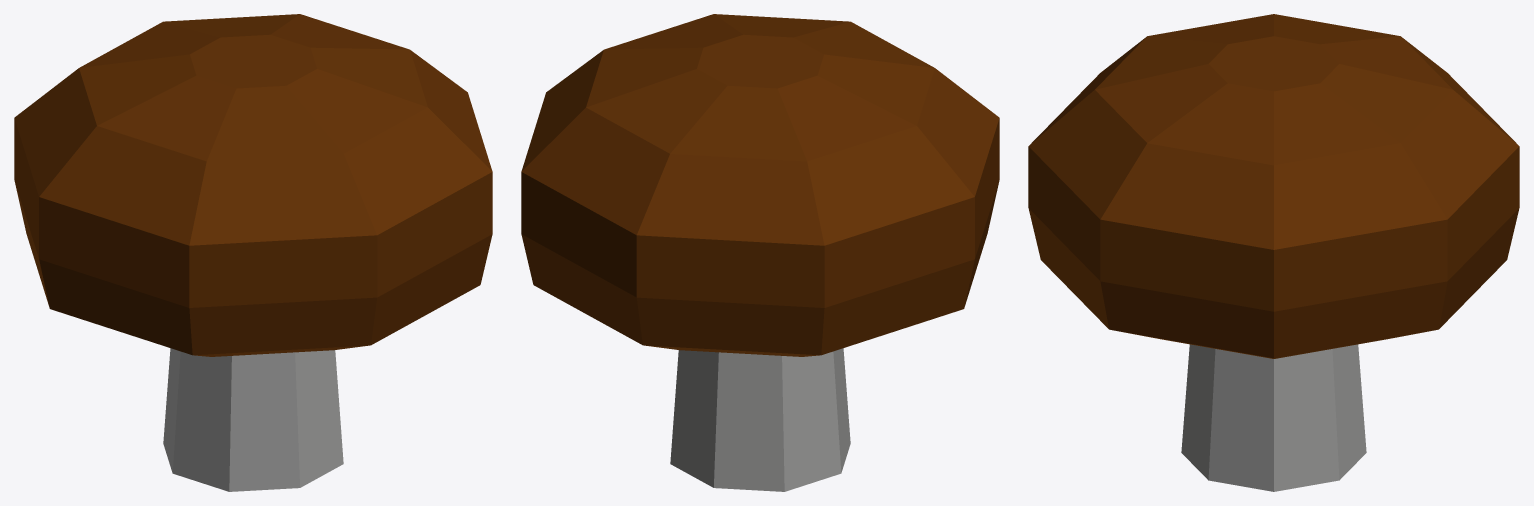
Rendered from mushroom01.obj.
3 views of the same model, side by side, from view 1: azimuth 30°, elevation 25°; view 2: azimuth 150°, elevation 25°; view 3: azimuth 270°, elevation 25° (orthographic).
Parts seen in each view (by area): view 1: Cylinder; view 2: Cylinder; view 3: Cylinder.
Part boxes in pixels (x1,y1,x2,y2): Cylinder: (14,14,492,491); Cylinder: (521,14,999,491); Cylinder: (1028,14,1519,491).
Bounding box in the file's own units: 0.046 × 0.0402 × 0.046.
Materials: 1 (1 with a texture image).
